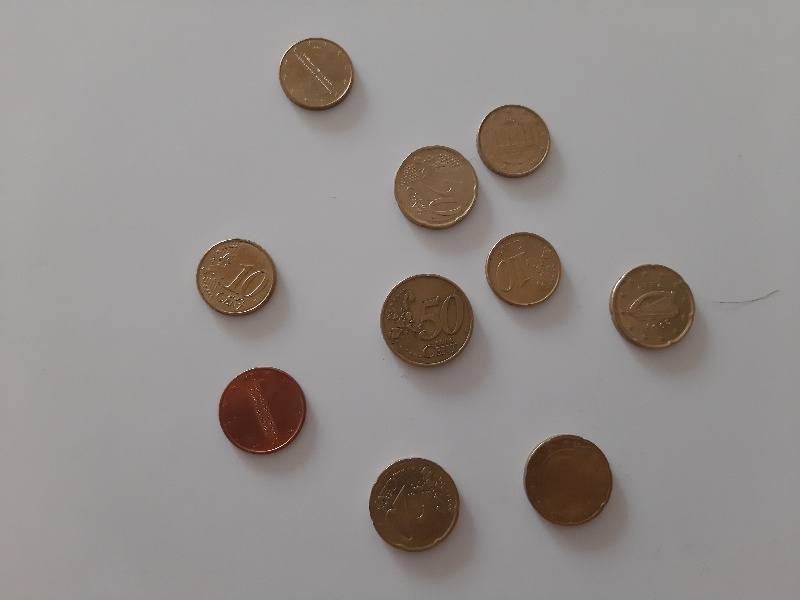10 cent: (193, 236, 280, 320), (484, 230, 566, 312), (277, 35, 357, 114), (474, 101, 552, 180)
20 cent: (366, 455, 463, 557), (521, 433, 618, 530), (604, 260, 697, 355), (392, 139, 480, 231)
5 cent: (216, 364, 309, 457)
50 cent: (377, 271, 477, 371)
